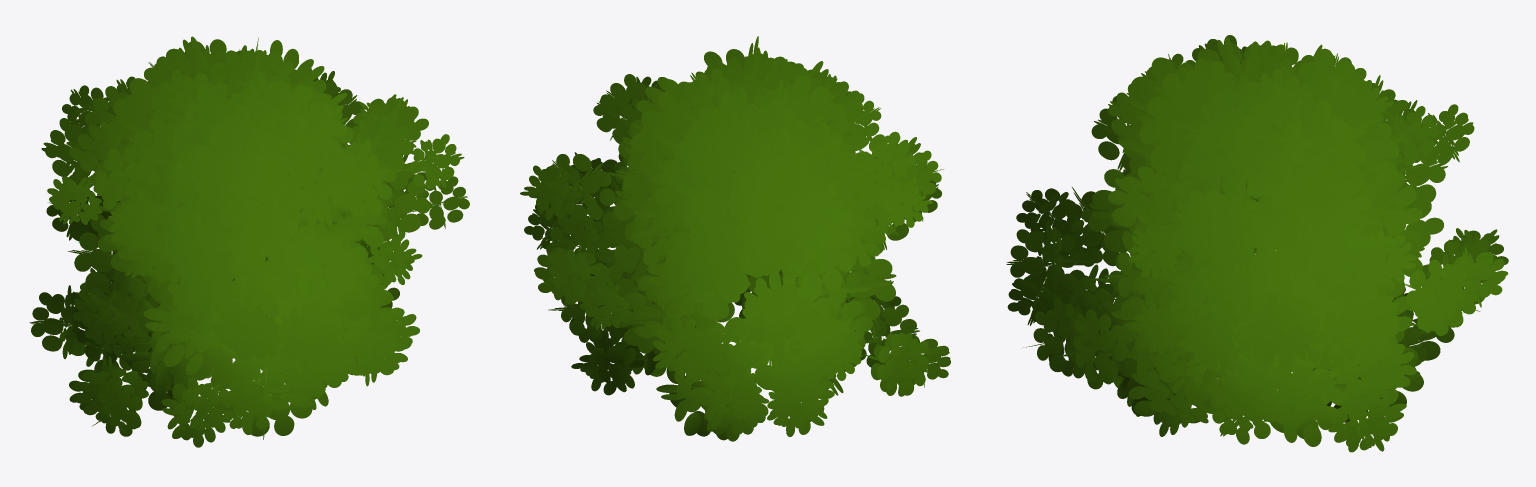
Rendered from Bush_Large.gltf.
3 renders of one model, left to right at view 1: azimuth 30°, elevation 25°; view 2: azimuth 150°, elevation 25°; view 3: azimuth 270°, elevation 25°, orthographic. The views are drawn at different scales.
Visible parts, largest first — view 1: Bush_Large; view 2: Bush_Large; view 3: Bush_Large.
Boxes of the visible parts, bbox=[...] form: Bush_Large: bbox=[29, 36, 469, 447]; Bush_Large: bbox=[520, 36, 950, 441]; Bush_Large: bbox=[1006, 35, 1508, 452].
Bounding box in the file's own units: 3.6 × 3.25 × 3.67.
1 material, 1 textured.
